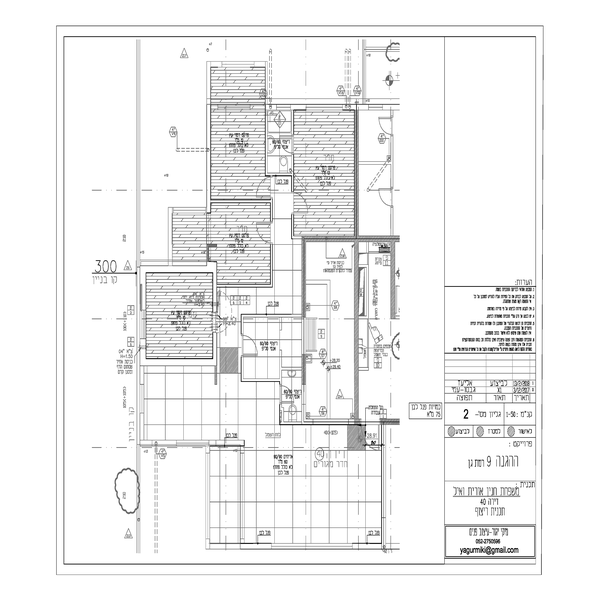door: (236, 332, 274, 363), (289, 189, 316, 214), (377, 112, 397, 138), (255, 217, 274, 244), (373, 184, 395, 206), (256, 173, 272, 196)
room: (209, 101, 272, 289), (304, 233, 361, 427), (289, 102, 360, 247), (138, 259, 222, 364), (237, 312, 301, 384)
wall: (352, 235, 361, 420), (205, 62, 212, 209), (353, 110, 360, 236), (141, 263, 216, 274), (300, 324, 308, 424), (299, 237, 307, 320), (145, 359, 209, 367), (220, 283, 275, 290), (240, 312, 301, 318), (241, 376, 280, 385), (213, 200, 270, 205), (139, 338, 147, 367), (270, 248, 275, 284), (291, 215, 296, 234)
